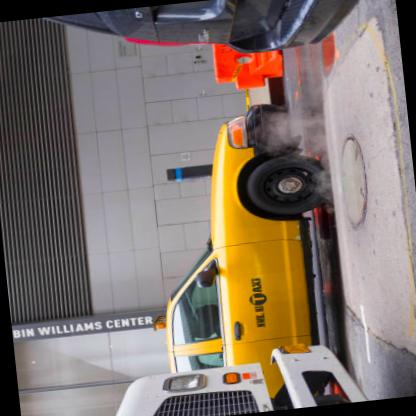manholes: (312, 110, 394, 237)
